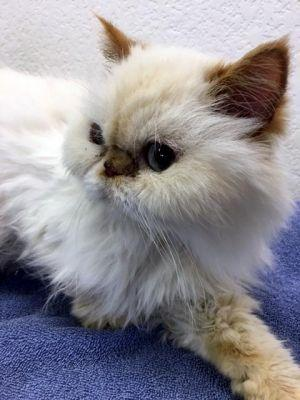persian: (60, 1, 300, 251)
